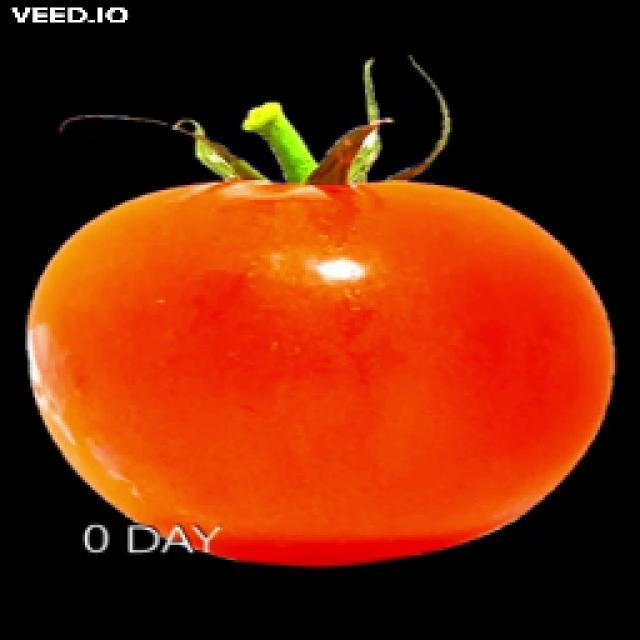tomato: (26, 179, 615, 568)
